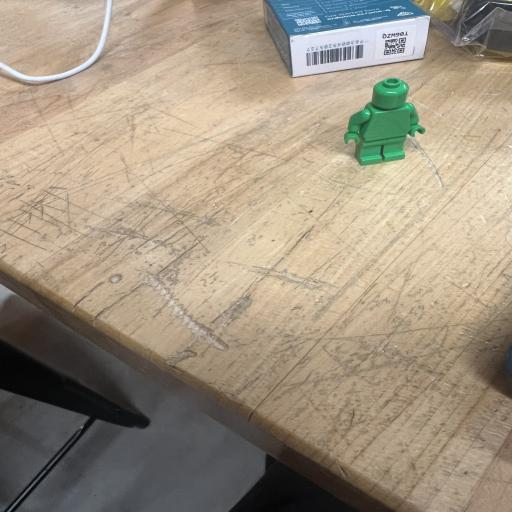green-lego-minifigure-detector: (344, 78, 425, 165)
